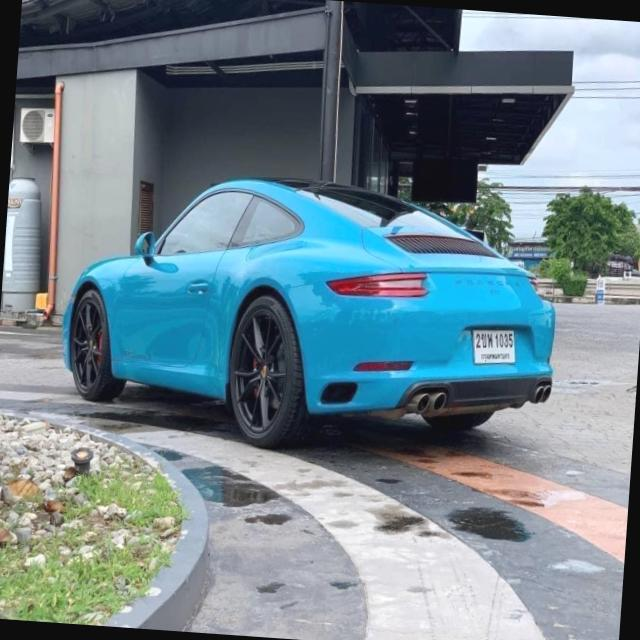license_plate: (463, 314, 522, 378)
